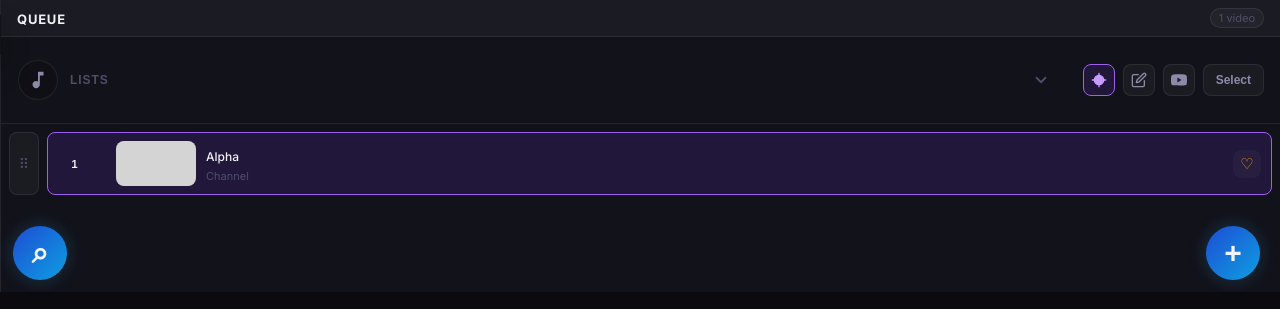
PlaylistSidebar › renders CustomPlaylistSubmenu inside the context menu
The width and height of the screenshot is (1280, 309).
Note: Open context menu for the track
Right-click the button with aria-label "Play Alpha" at (156, 164), box [47,132,1272,195]
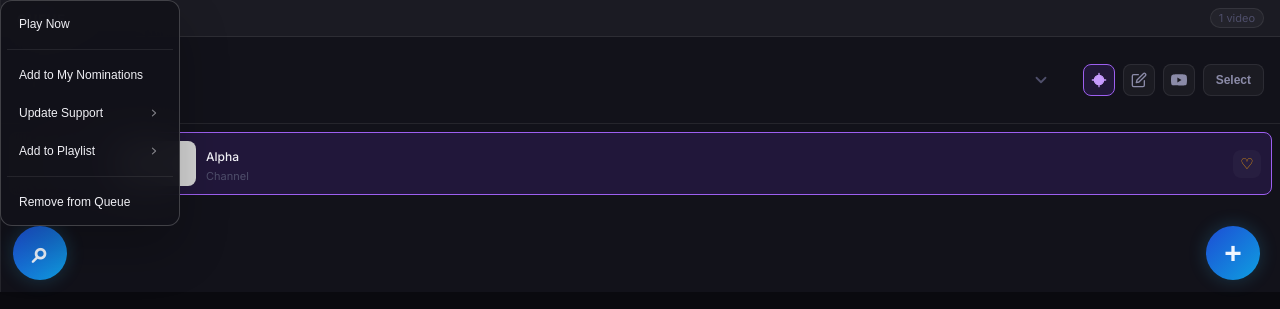
Result: the menu item "Add to Playlist" is shown at [7,134,173,168]
